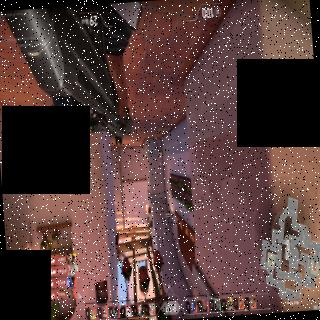ENEMY-BODY: (155, 136, 164, 166)
ENEMY-HEAD: (159, 160, 161, 165)
